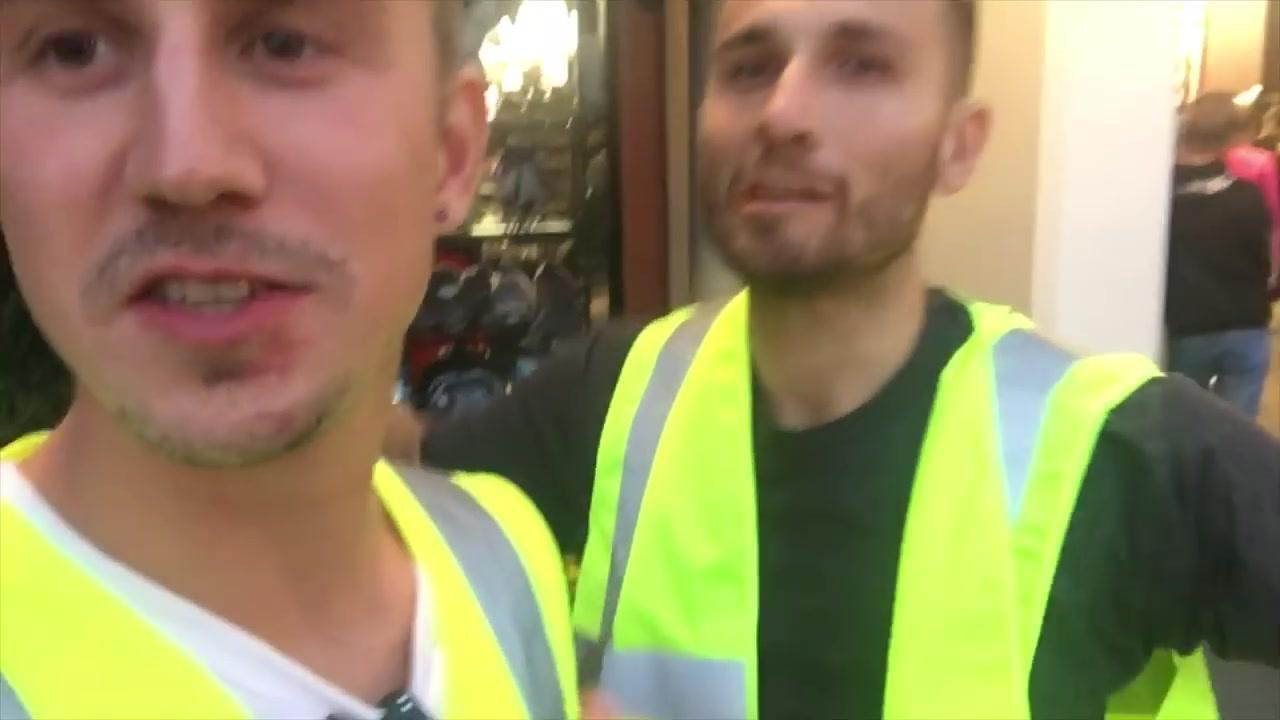vest: (568, 271, 1168, 719), (2, 424, 584, 718)
